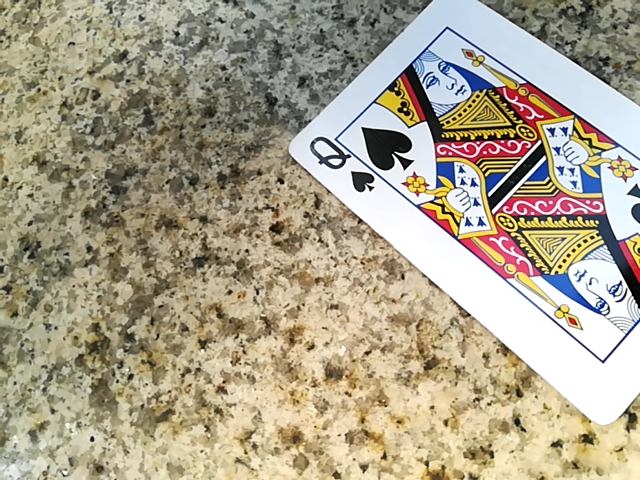ht q: (292, 3, 640, 416)
